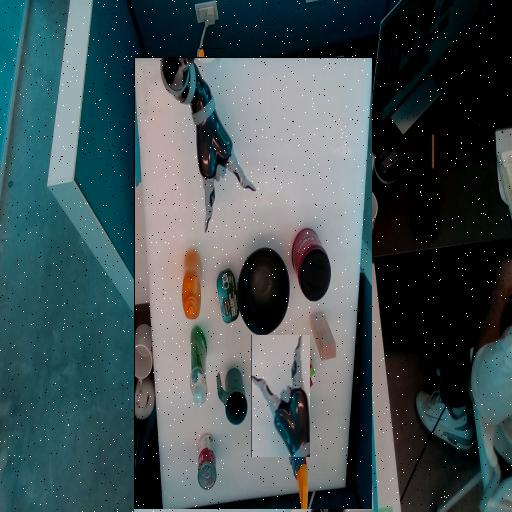bowl: (218, 232, 268, 318)
cleanser: (300, 161, 316, 241)
coffee_can: (175, 283, 214, 322)
jaco: (252, 335, 310, 457)
meat_can: (268, 245, 289, 298)
mug: (259, 143, 289, 199)
mustard_bottle: (305, 273, 324, 292)
rubik: (190, 174, 212, 217)
soup_can: (290, 78, 308, 133)
tennis_ball: (221, 188, 238, 218)
windex: (198, 49, 225, 167)
wooden_block: (170, 219, 195, 244)
workspace: (134, 58, 372, 509)
